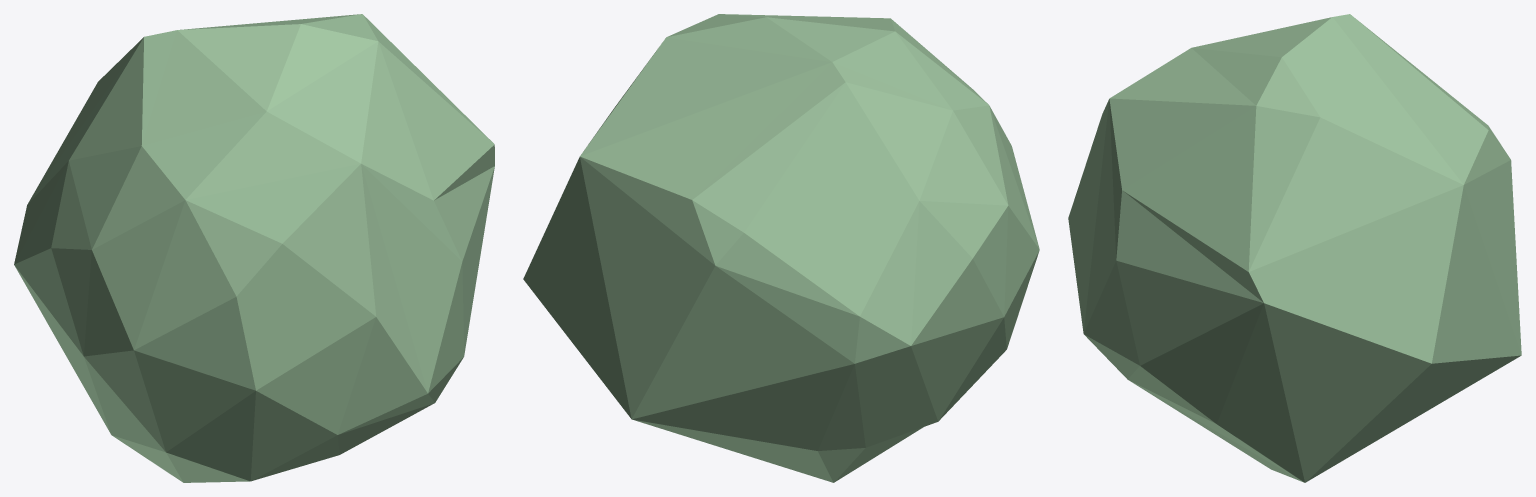
File: Mystic_Bush2.fbx
3 views of the same model, side by side, from view 1: azimuth 30°, elevation 25°; view 2: azimuth 150°, elevation 25°; view 3: azimuth 270°, elevation 25° (orthographic). The views are drawn at different scales.
Visible parts, largest first — view 1: Mystic_Bush2; view 2: Mystic_Bush2; view 3: Mystic_Bush2.
Part boxes in pixels (x1,y1,x2,y2): Mystic_Bush2: [14, 14, 494, 482]; Mystic_Bush2: [523, 14, 1039, 482]; Mystic_Bush2: [1068, 14, 1521, 482].
Size of the model in its own units: 80.85 by 80.89 by 83.63.
